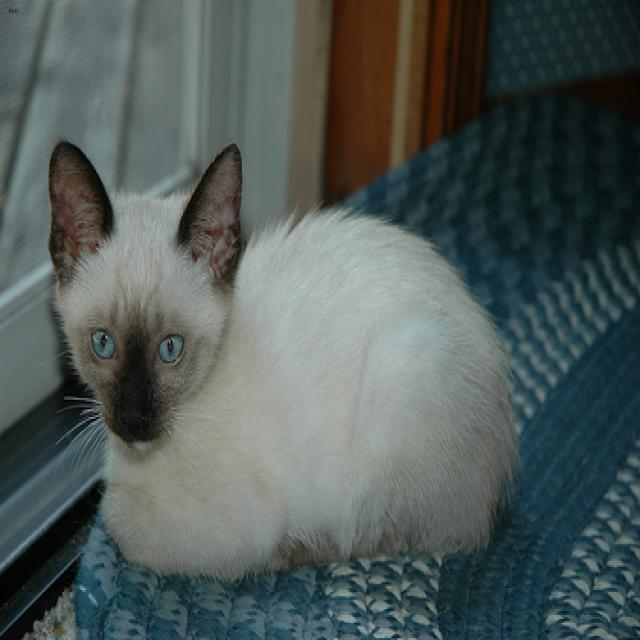Siamese: (46, 140, 239, 454)
